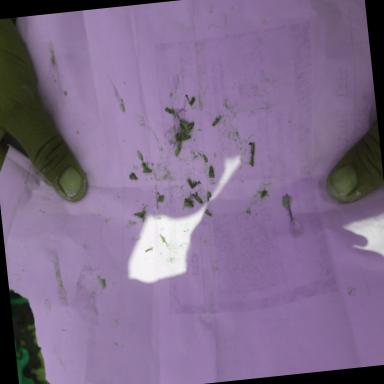pbw: (185, 118, 195, 134), (182, 198, 193, 210), (180, 133, 192, 144), (128, 172, 140, 183), (172, 145, 182, 158), (256, 190, 269, 199), (246, 154, 254, 168), (142, 165, 152, 176), (180, 123, 188, 136), (194, 195, 203, 206), (249, 142, 256, 156), (184, 198, 194, 206), (189, 96, 196, 107), (186, 178, 192, 190), (208, 166, 214, 178), (180, 118, 190, 125), (204, 209, 212, 217), (212, 119, 220, 126), (186, 204, 194, 210), (139, 210, 146, 216), (192, 182, 197, 187), (134, 213, 140, 217)
